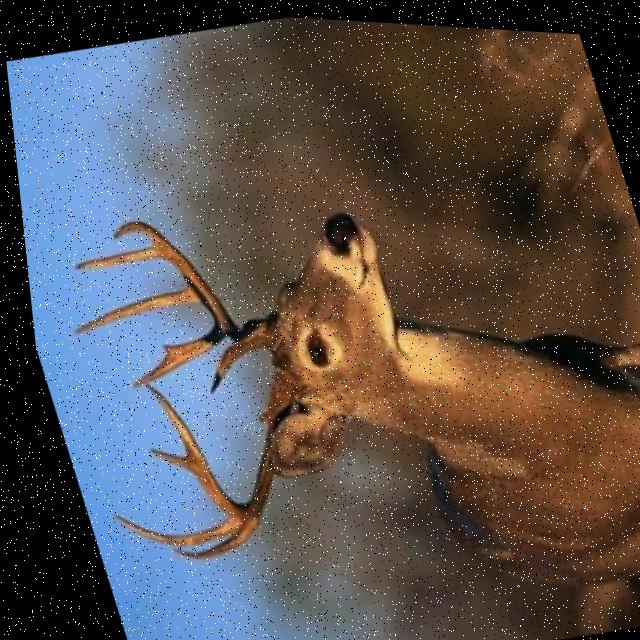R-F: (135, 363, 289, 519)
R-G1: (197, 330, 252, 393)
R-G2: (121, 321, 217, 387), (156, 518, 245, 559)
R-G3: (65, 284, 192, 334), (99, 511, 228, 544)
R-G4: (65, 241, 160, 270), (137, 446, 182, 472)
